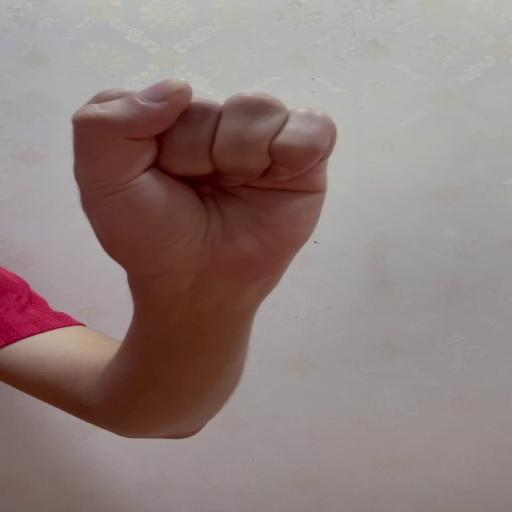fist: (70, 71, 338, 274)
